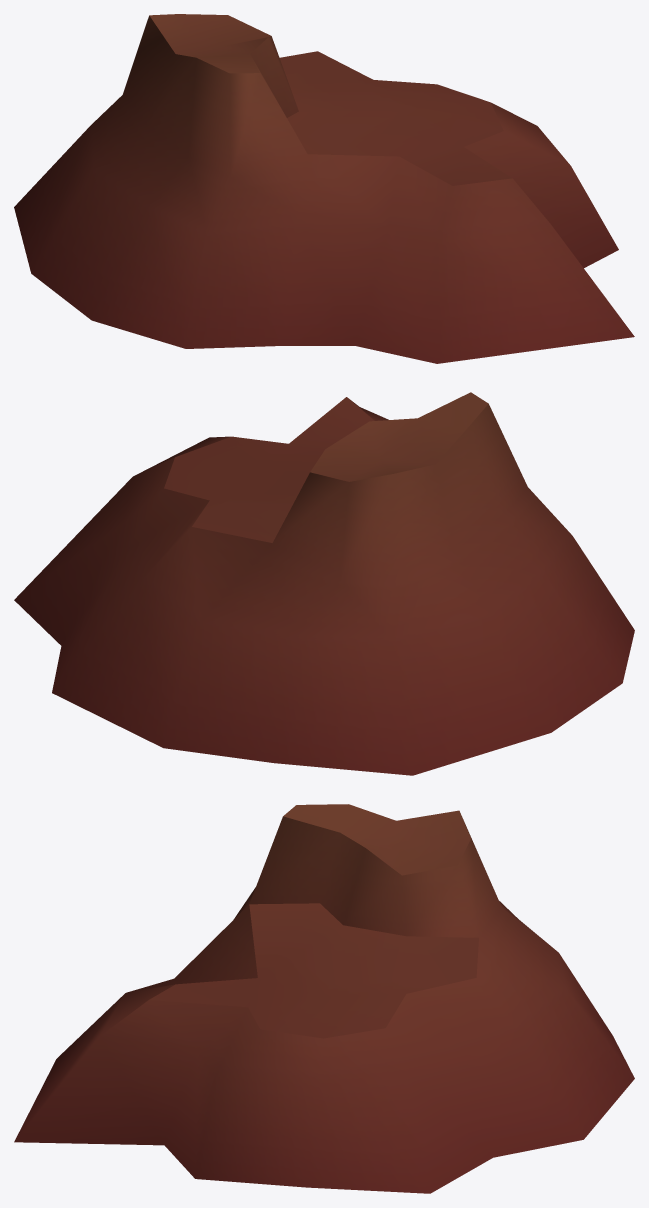
File: Mountain_big.031.fbx
The picture shows the model from 3 angles, top to bottom: view 1: azimuth 30°, elevation 25°; view 2: azimuth 150°, elevation 25°; view 3: azimuth 270°, elevation 25°; orthographic projection. The views are drawn at different scales.
Visible parts, largest first — view 1: Mountain_big.031; view 2: Mountain_big.031; view 3: Mountain_big.031.
Part boxes in pixels (x1,y1,x2,y2): Mountain_big.031: [14, 14, 634, 363]; Mountain_big.031: [14, 392, 634, 775]; Mountain_big.031: [14, 804, 634, 1193].
Bounding box in the file's own units: 262 × 111 × 291.
